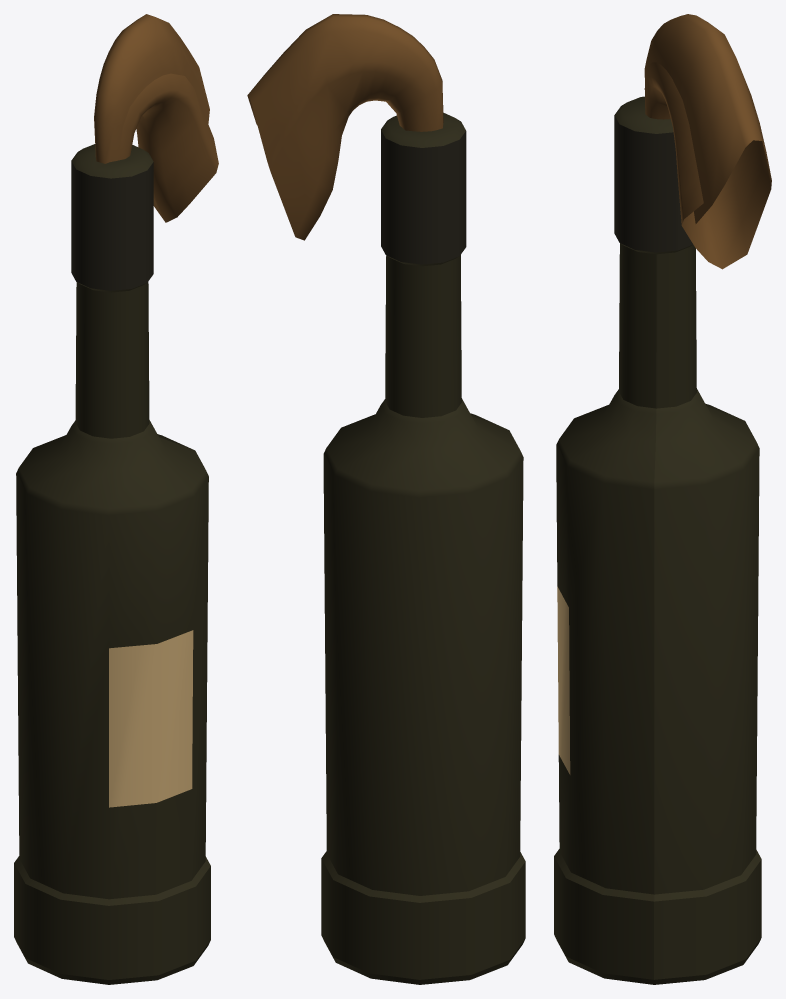
Rendered from Molotov.fbx.
3 views of the same model, side by side, from view 1: azimuth 30°, elevation 25°; view 2: azimuth 150°, elevation 25°; view 3: azimuth 270°, elevation 25° (orthographic). The views are drawn at different scales.
Parts seen in each view (by area): view 1: Molotov; view 2: Molotov; view 3: Molotov.
Part boxes in pixels (x1,y1,x2,y2): Molotov: (14, 14, 218, 984); Molotov: (247, 14, 525, 984); Molotov: (554, 14, 771, 984).
Bounding box in the file's own units: 15.69 × 63.02 × 13.09.
